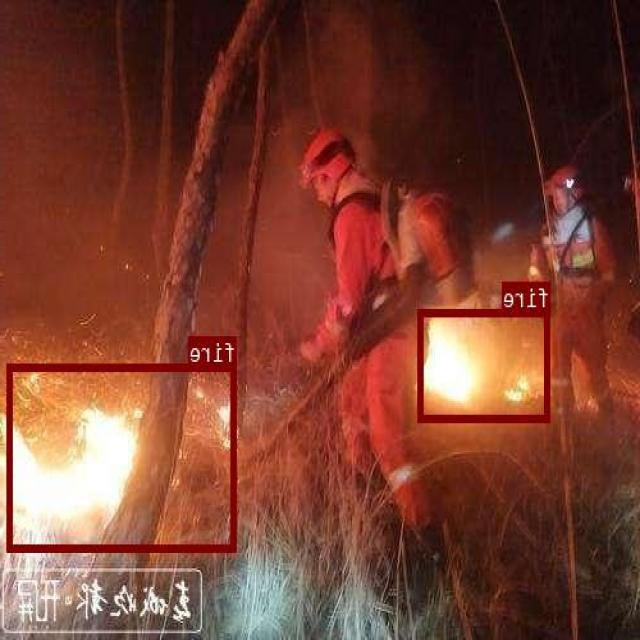fire: (8, 362, 238, 550), (419, 308, 551, 420)
